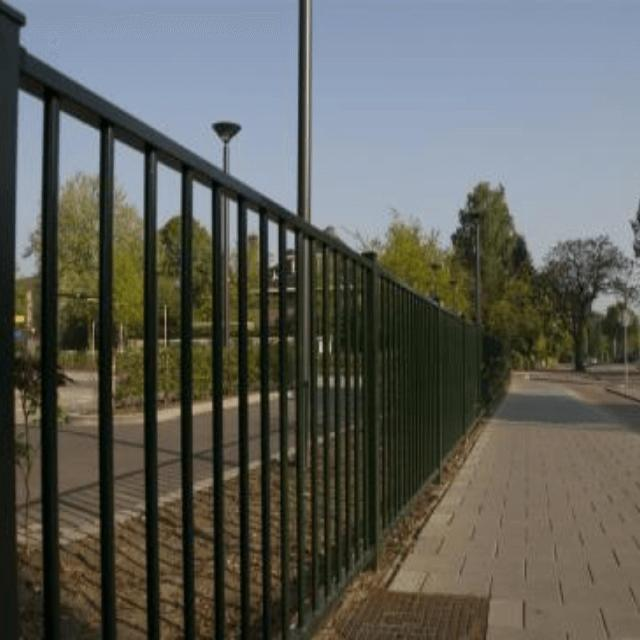fence line: (30, 112, 384, 640), (337, 278, 518, 512)
